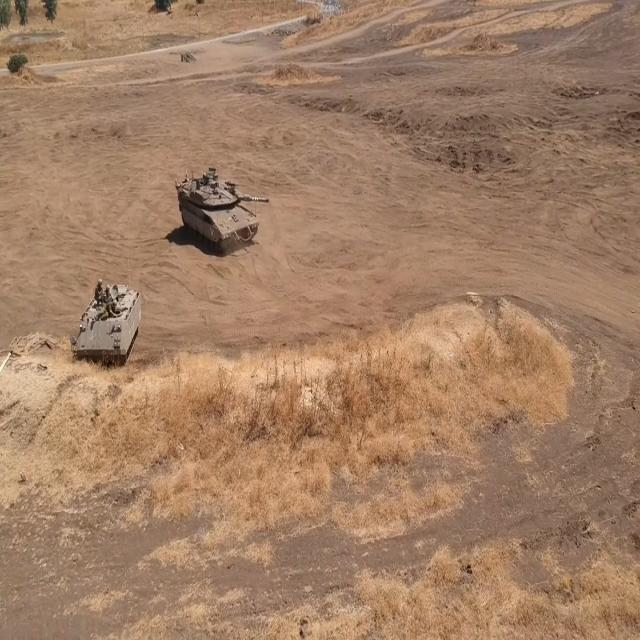tank: (171, 166, 272, 256)
